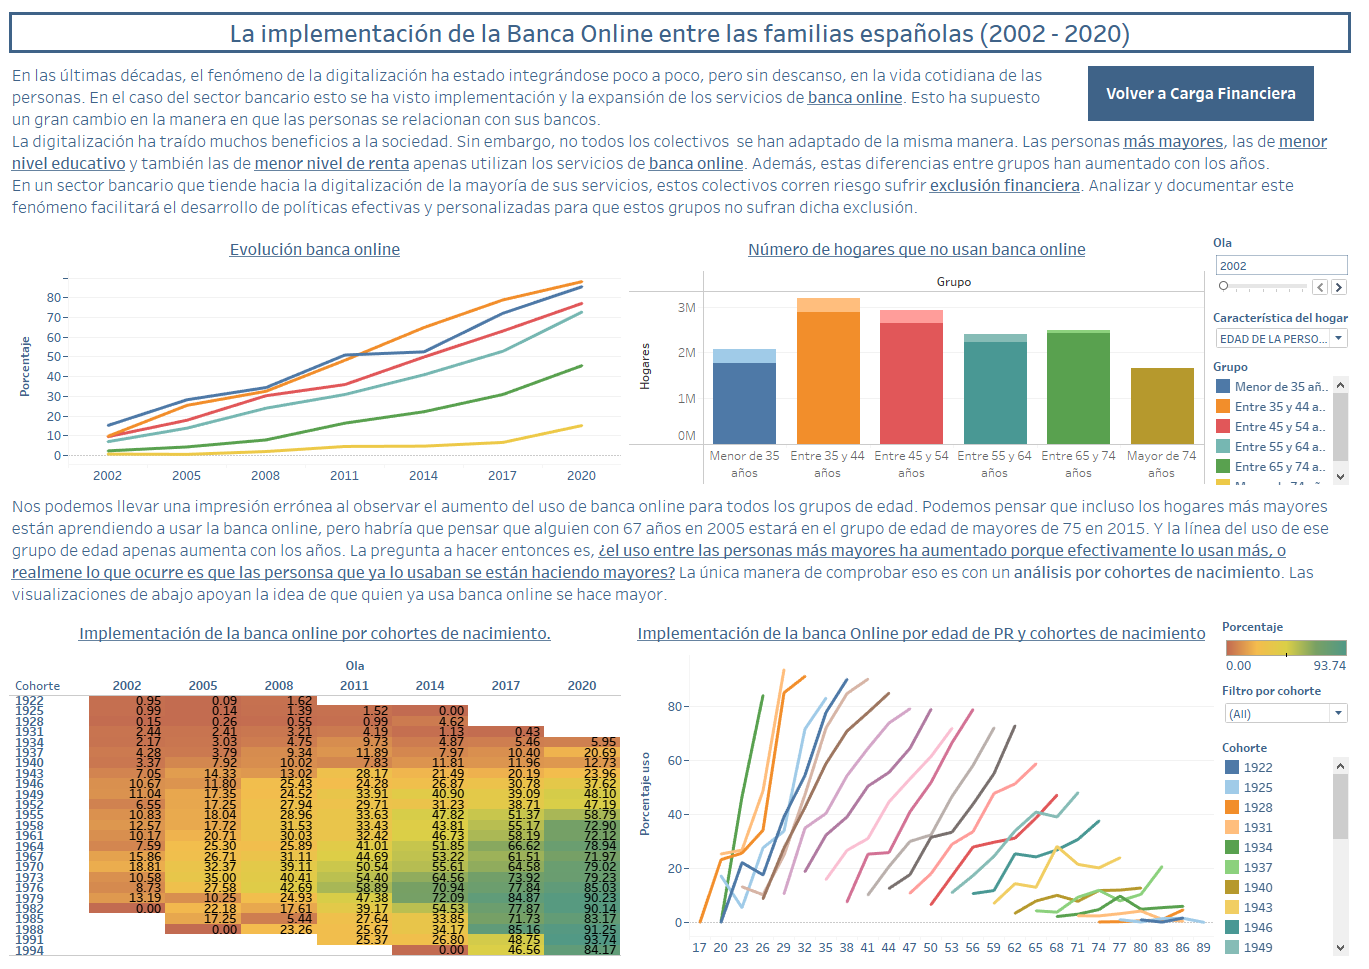

This screenshot's page, from the dashboard's own definition file:
{"tool":"tableau","page":{"name":"Implementación de Banca Online","canvas":[1366,968],"ordinal":1},"visuals":[{"type":"title","box":[8,8,1350,41]},{"type":"text","box":[8,49,1350,54]},{"type":"dashboard-object","box":[1136,63,192,32]},{"type":"text","box":[8,103,1350,179]},{"type":"worksheet","title":"Evolución banca online","mark":"Line","rows":["Porcentaje"],"cols":["Ola"],"box":[8,282,620,227.5]},{"type":"worksheet","title":"Número de hogares que no usan banca online","mark":"Bar","rows":["Calculation_1019220931148828672","Numero de hogares que no usan banca online"],"cols":["Grupo"],"box":[628,282,584,227.5]},{"type":"filter","title":"Número de hogares que no usan banca online","param":"[federated.1wxjlh41vok07712mvfdd0y3ag6l].[none:Ola:ok]","box":[1212,282,146,75]},{"type":"filter","title":"Evolución banca online","param":"[federated.1wxjlh41vok07712mvfdd0y3ag6l].[none:Categoria:nk]","box":[1212,357,146,49]},{"type":"legend","title":"Evolución banca online","param":"[federated.1wxjlh41vok07712mvfdd0y3ag6l].[none:Grupo:nk]","box":[1212,406,146,103.5]},{"type":"text","box":[8,509.5,1350,122.1]},{"type":"worksheet","title":"Cohortes - heatmap","mark":"Automatic","rows":["Cohorte"],"cols":["Ola"],"box":[8,631.6,620,328.4]},{"type":"worksheet","title":"Cohortes - Líneas","mark":"Line","rows":["Porcentaje"],"cols":["Edad"],"box":[628,631.6,593,328.4]},{"type":"legend","title":"Cohortes - heatmap","param":"[federated.0s58uk51c41fx616tqtsr0si7yop].[sum:Porcentaje:qk]","box":[1221,631.6,137,64]},{"type":"filter","title":"Cohortes - Líneas","param":"[federated.0s58uk51c41fx616tqtsr0si7yop].[none:tipocohorte:nk]","box":[1221,695.6,137,57]},{"type":"legend","title":"Cohortes - Líneas","param":"[federated.0s58uk51c41fx616tqtsr0si7yop].[none:Cohorte:ok]","box":[1221,752.6,137,207.4]}]}

Visuals, with their boxes in screenshot pixels (x1, y1, x2, y2), scaled from the page's 1366x968 canvas onto the 1369x969 screenshot:
title: x1=8, y1=8, x2=1361, y2=49
text: x1=8, y1=49, x2=1361, y2=103
dashboard-object: x1=1138, y1=63, x2=1331, y2=95
text: x1=8, y1=103, x2=1361, y2=282
"Evolución banca online" worksheet (Line marks): x1=8, y1=282, x2=629, y2=510
"Número de hogares que no usan banca online" worksheet (Bar marks): x1=629, y1=282, x2=1215, y2=510
"Número de hogares que no usan banca online" filter: x1=1215, y1=282, x2=1361, y2=357
"Evolución banca online" filter: x1=1215, y1=357, x2=1361, y2=406
"Evolución banca online" legend: x1=1215, y1=406, x2=1361, y2=510
text: x1=8, y1=510, x2=1361, y2=632
"Cohortes - heatmap" worksheet: x1=8, y1=632, x2=629, y2=961
"Cohortes - Líneas" worksheet (Line marks): x1=629, y1=632, x2=1224, y2=961
"Cohortes - heatmap" legend: x1=1224, y1=632, x2=1361, y2=696
"Cohortes - Líneas" filter: x1=1224, y1=696, x2=1361, y2=753
"Cohortes - Líneas" legend: x1=1224, y1=753, x2=1361, y2=961
